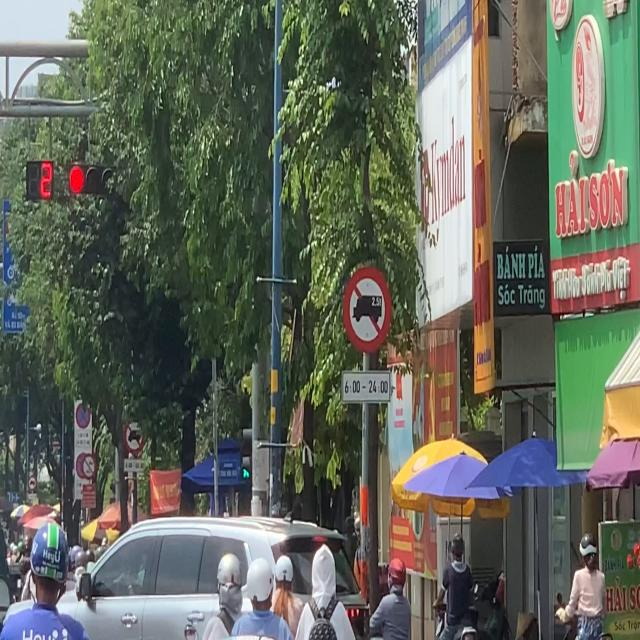Cam con lai: (345, 268, 392, 349), (123, 418, 143, 455)
